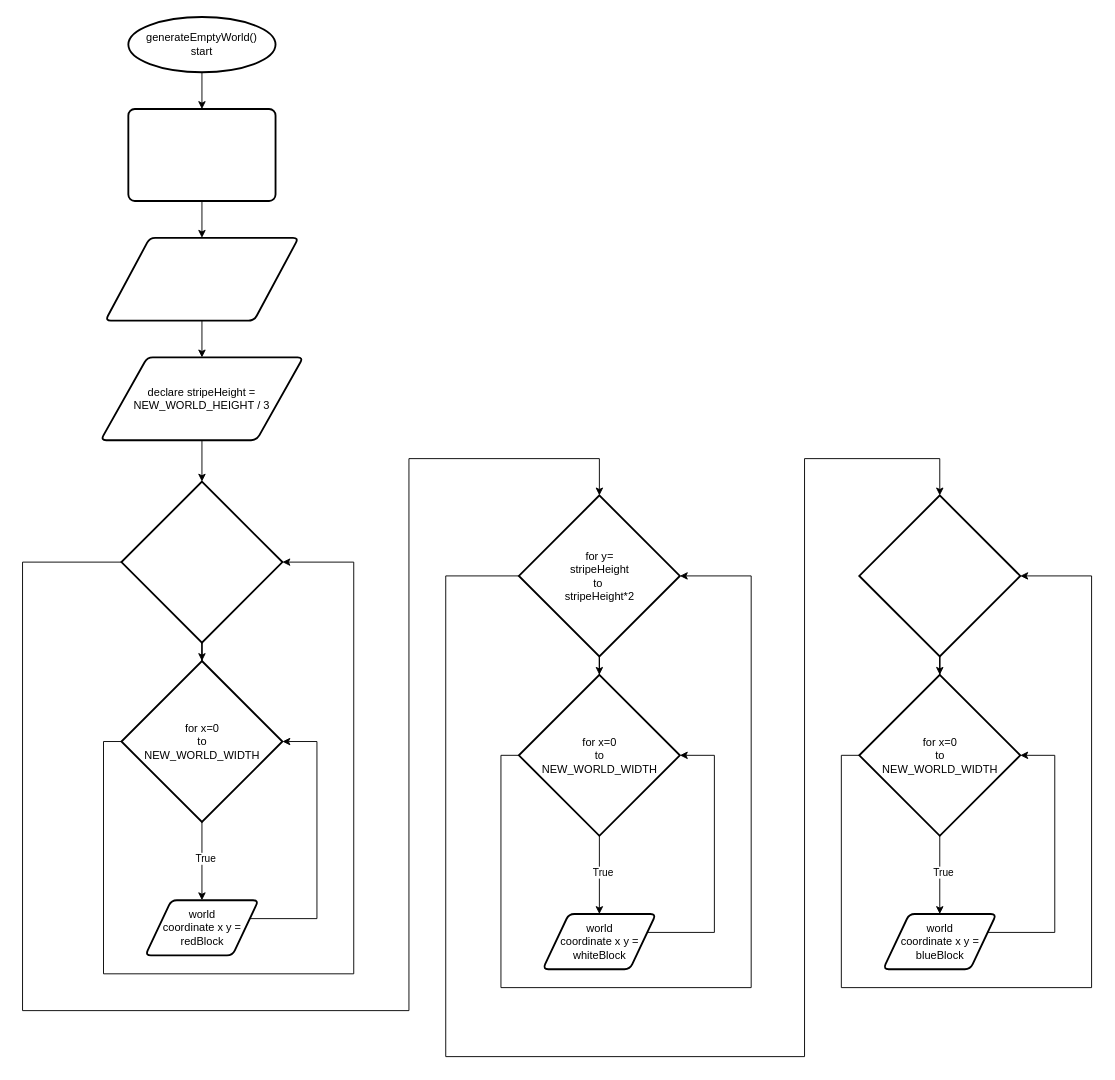
This 1115x1080 diagram has some shape labels left out. Here are the shapes that lost their labels. From the top down, the centre of each, then its label:
the point at 201,154: new world matrix [NEW_WORLD_WIDTH] [NEW_WORLD_HEIGHT]
the point at 201,278: declare color variables redblock=1 whiteBlock=4 blueBlock=3
the point at 201,561: for y=0 to stripeHeight
the point at 939,575: for y= stripeHeight*2 to NEW_WORLD_HEIGHT
